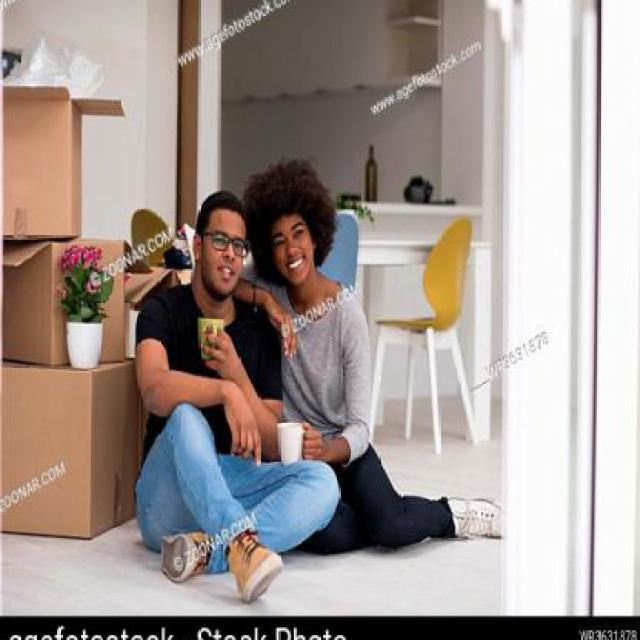box: (0, 361, 154, 551), (2, 62, 133, 246), (0, 216, 149, 371)
